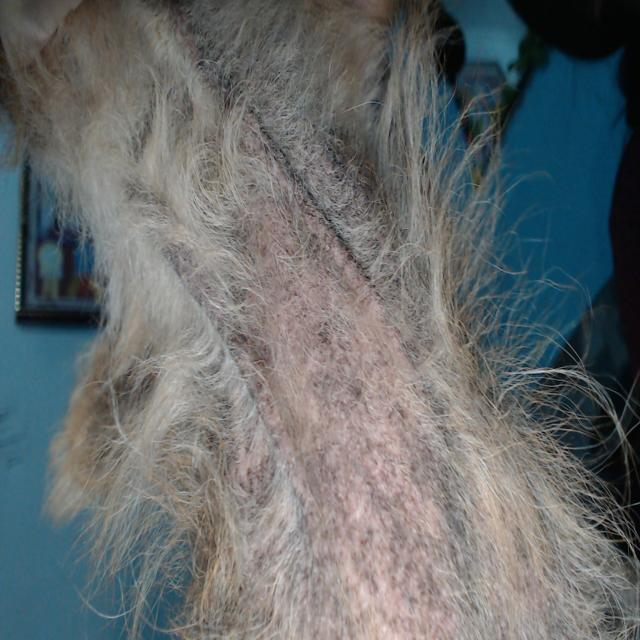demodicosis: (211, 154, 421, 570)
